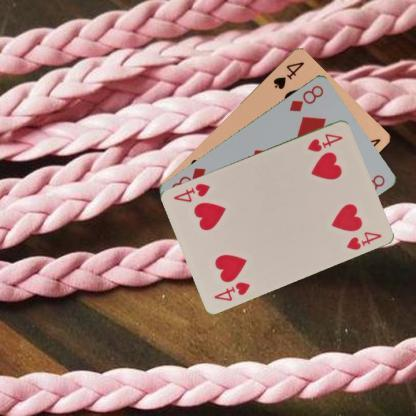4h: (211, 278, 252, 302), (304, 130, 344, 154)
4s: (270, 58, 306, 90)
8d: (287, 82, 325, 113)
